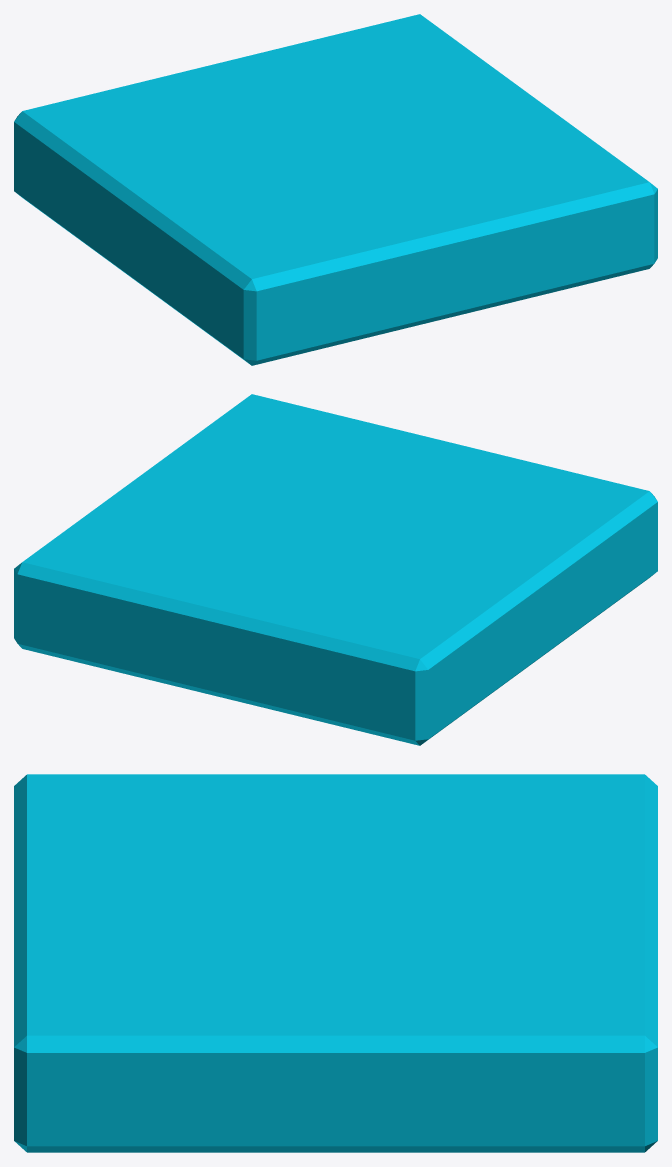
File: Floor.fbx
The picture shows the model from 3 angles, top to bottom: view 1: azimuth 30°, elevation 25°; view 2: azimuth 150°, elevation 25°; view 3: azimuth 270°, elevation 25°; orthographic projection. The views are drawn at different scales.
Parts seen in each view (by area): view 1: pCube1; view 2: pCube1; view 3: pCube1.
Part boxes in pixels (x1,y1,x2,y2): pCube1: (14,14,657,365); pCube1: (14,394,657,745); pCube1: (14,774,657,1152).
Bounding box in the file's own units: 1 × 0.2 × 1.
